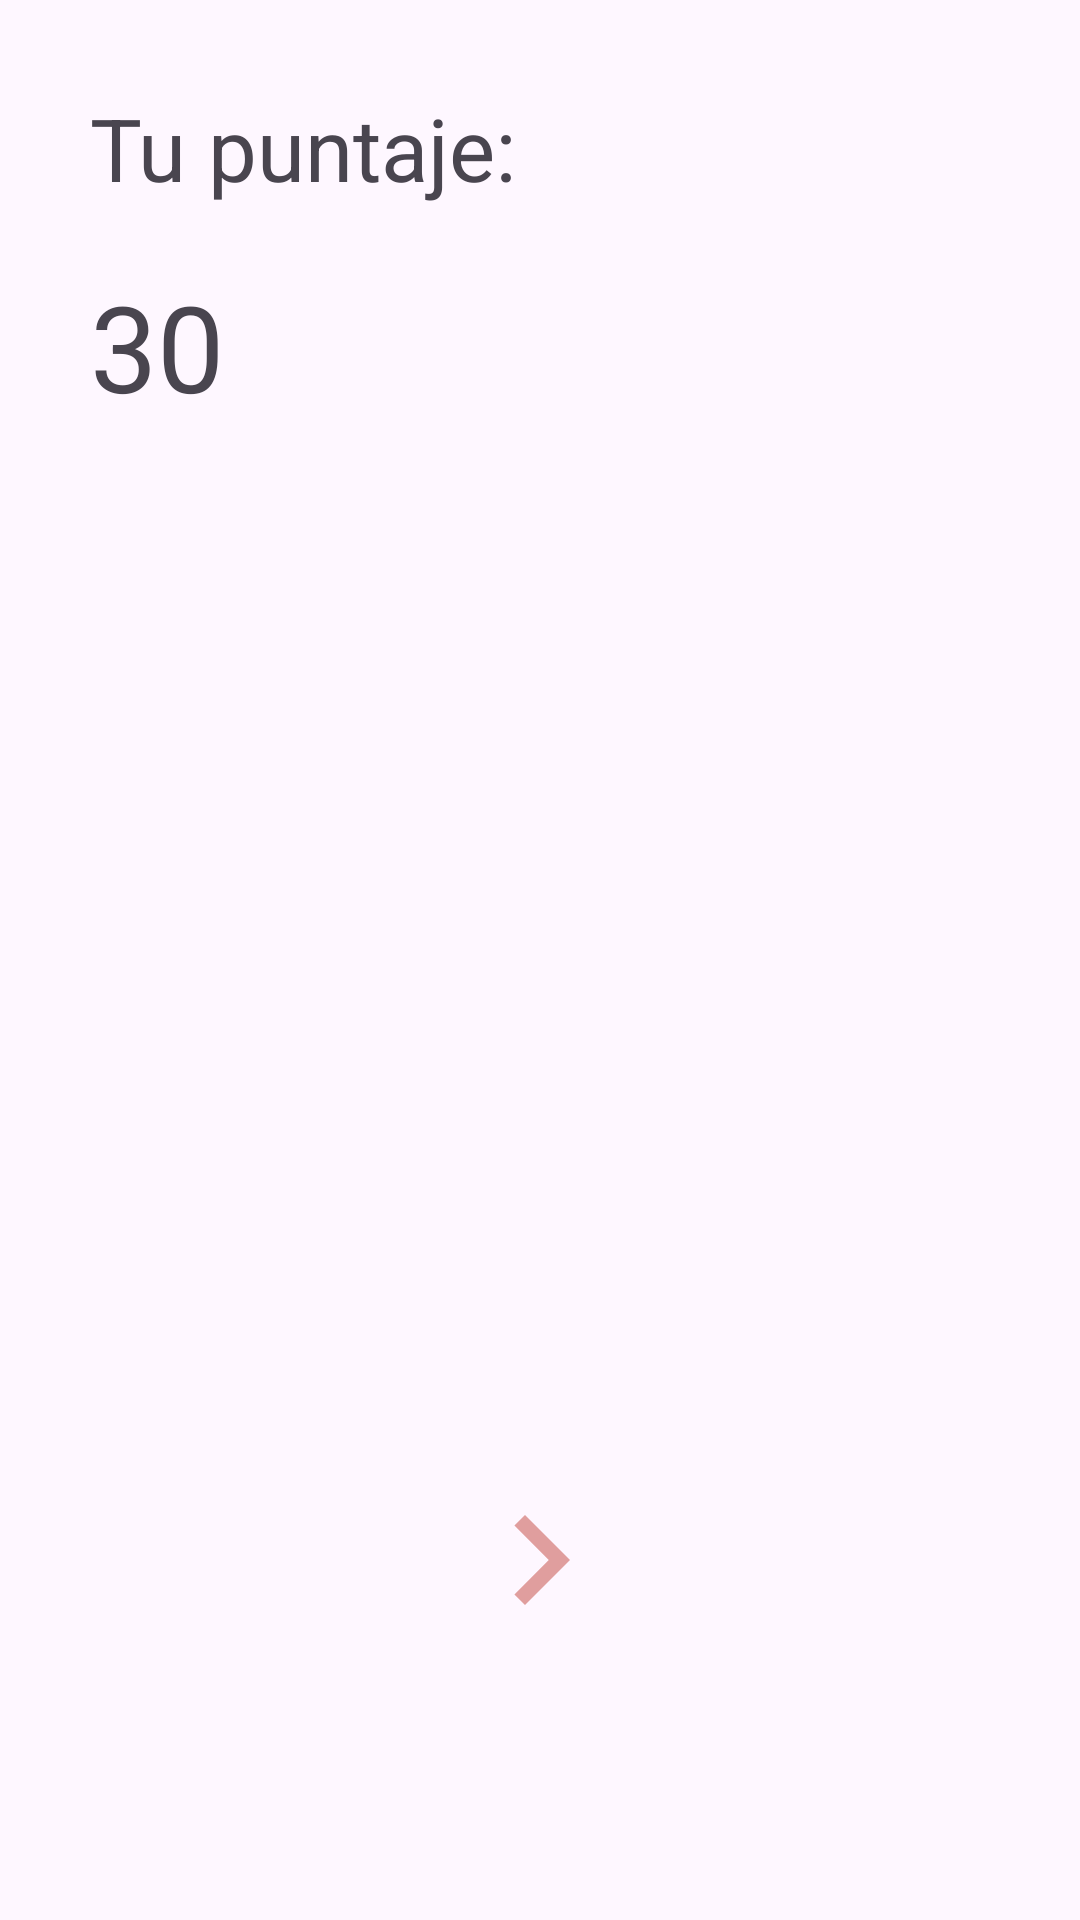

Locate icon controls on the screen. Image size 1080x1920, boxes as (x1, y1, x2, y2).
next: (514, 1515, 570, 1605)
